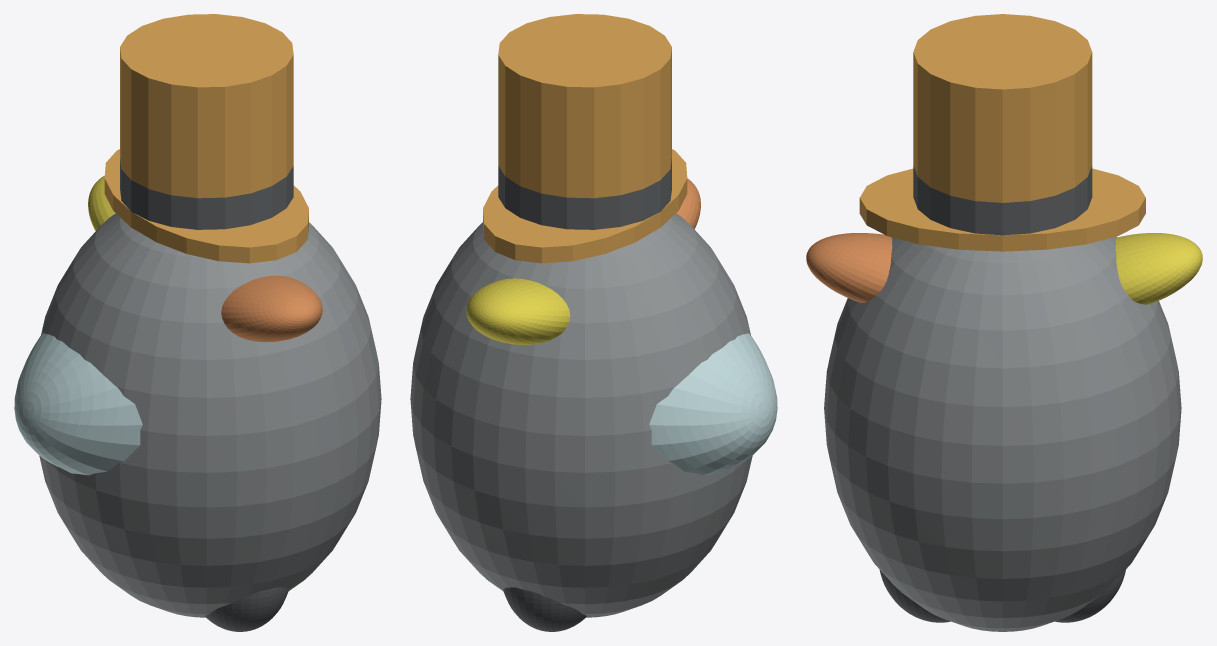
File: asset.glb
The picture shows the model from 3 angles, left to right: view 1: azimuth 30°, elevation 25°; view 2: azimuth 150°, elevation 25°; view 3: azimuth 270°, elevation 25°; orthographic projection. The views are drawn at different scales.
Parts seen in each view (by area): view 1: Mesh_Mesh_head_geo.001_lambert2SG.001; view 2: Mesh_Mesh_head_geo.001_lambert2SG.001; view 3: Mesh_Mesh_head_geo.001_lambert2SG.001.
Boxes of the visible parts, box(x1,y1,x2,y2) form: Mesh_Mesh_head_geo.001_lambert2SG.001: box(14, 14, 381, 631); Mesh_Mesh_head_geo.001_lambert2SG.001: box(410, 14, 777, 631); Mesh_Mesh_head_geo.001_lambert2SG.001: box(806, 14, 1202, 631).
Size of the model in its own units: 22 by 35 by 22.19.
